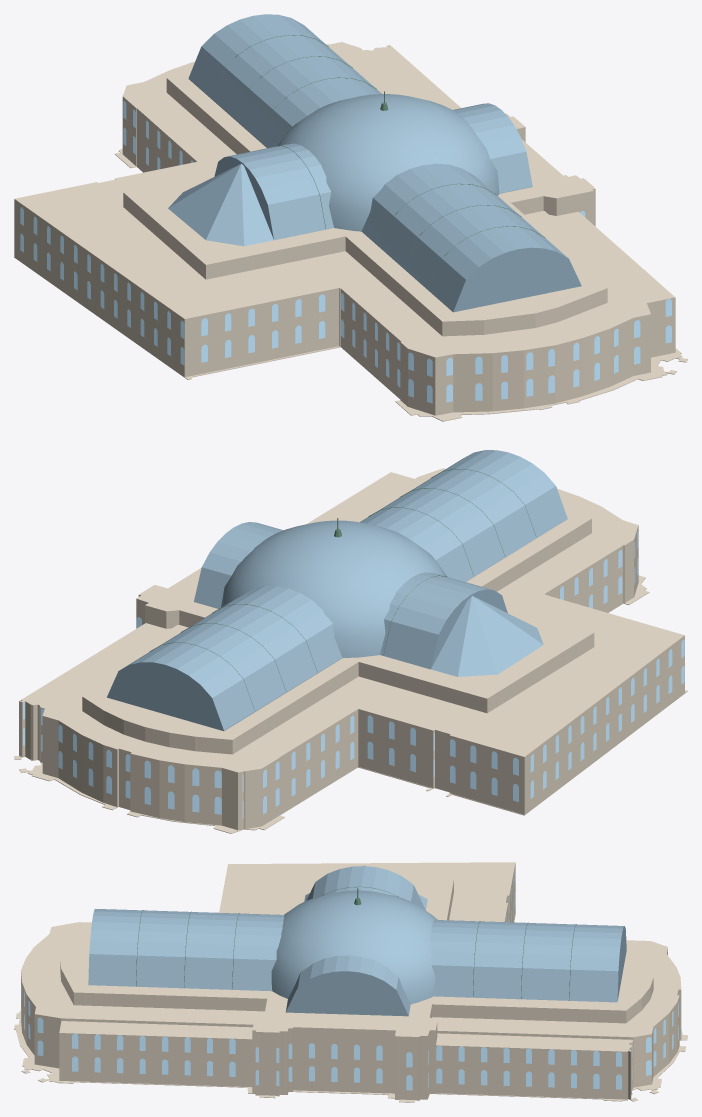
The picture shows the model from 3 angles, top to bottom: view 1: azimuth 30°, elevation 25°; view 2: azimuth 150°, elevation 25°; view 3: azimuth 270°, elevation 25°; orthographic projection. The views are drawn at different scales.
Visible parts, largest first — view 1: stone, glass, window, metal; view 2: stone, glass, window, metal; view 3: stone, glass, window, metal.
Boxes of the visible parts, left/top/right/bottom form: stone: left=14, top=42, right=687, bottom=421; glass: left=168, top=14, right=581, bottom=312; window: left=20, top=101, right=671, bottom=403; metal: left=212, top=35, right=545, bottom=290; stone: left=14, top=468, right=687, bottom=833; glass: left=107, top=450, right=567, bottom=731; window: left=23, top=531, right=684, bottom=818; metal: left=149, top=468, right=536, bottom=710; stone: left=14, top=862, right=687, bottom=1102; glass: left=88, top=865, right=626, bottom=1016; window: left=21, top=869, right=678, bottom=1090; metal: left=136, top=886, right=576, bottom=1000.
Bounding box in the file's own units: 160 × 56 × 240.
